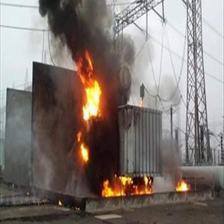fire: (38, 1, 134, 120), (93, 170, 194, 196), (74, 119, 106, 167)
